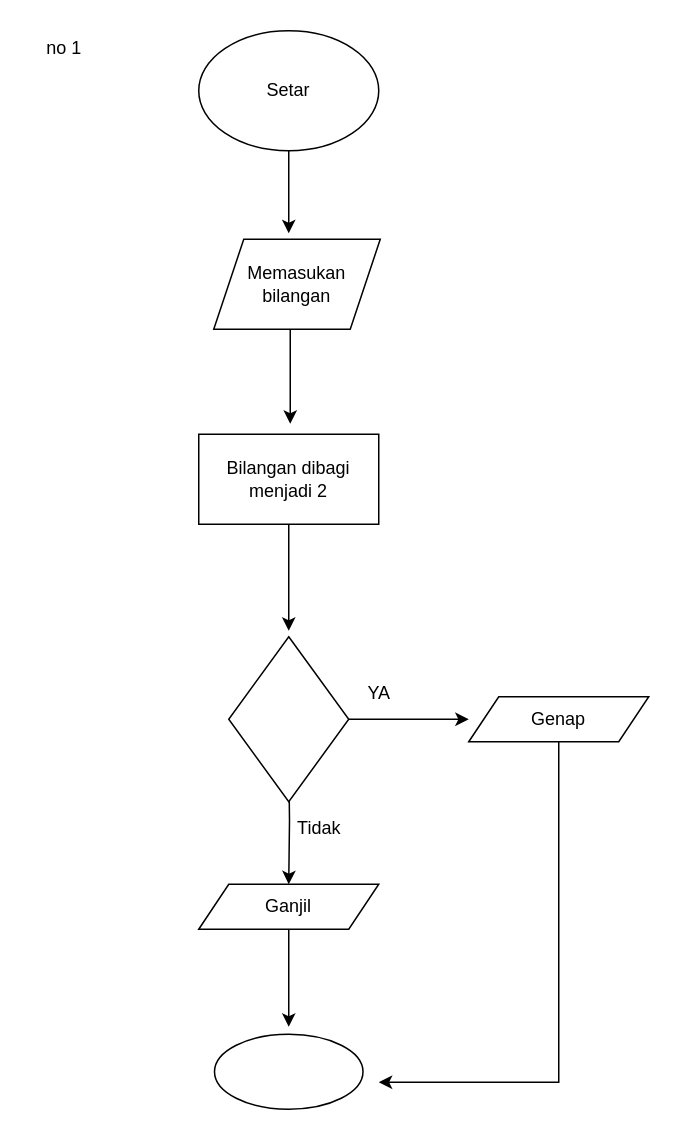
The diagram is 675 pixels wide and 1136 high, and some of its shapes have lost their labels. The centre of each missing label's shape, as x and y in pixels:
Selesai: (288,1071)
Sisa =2: (288,718)
